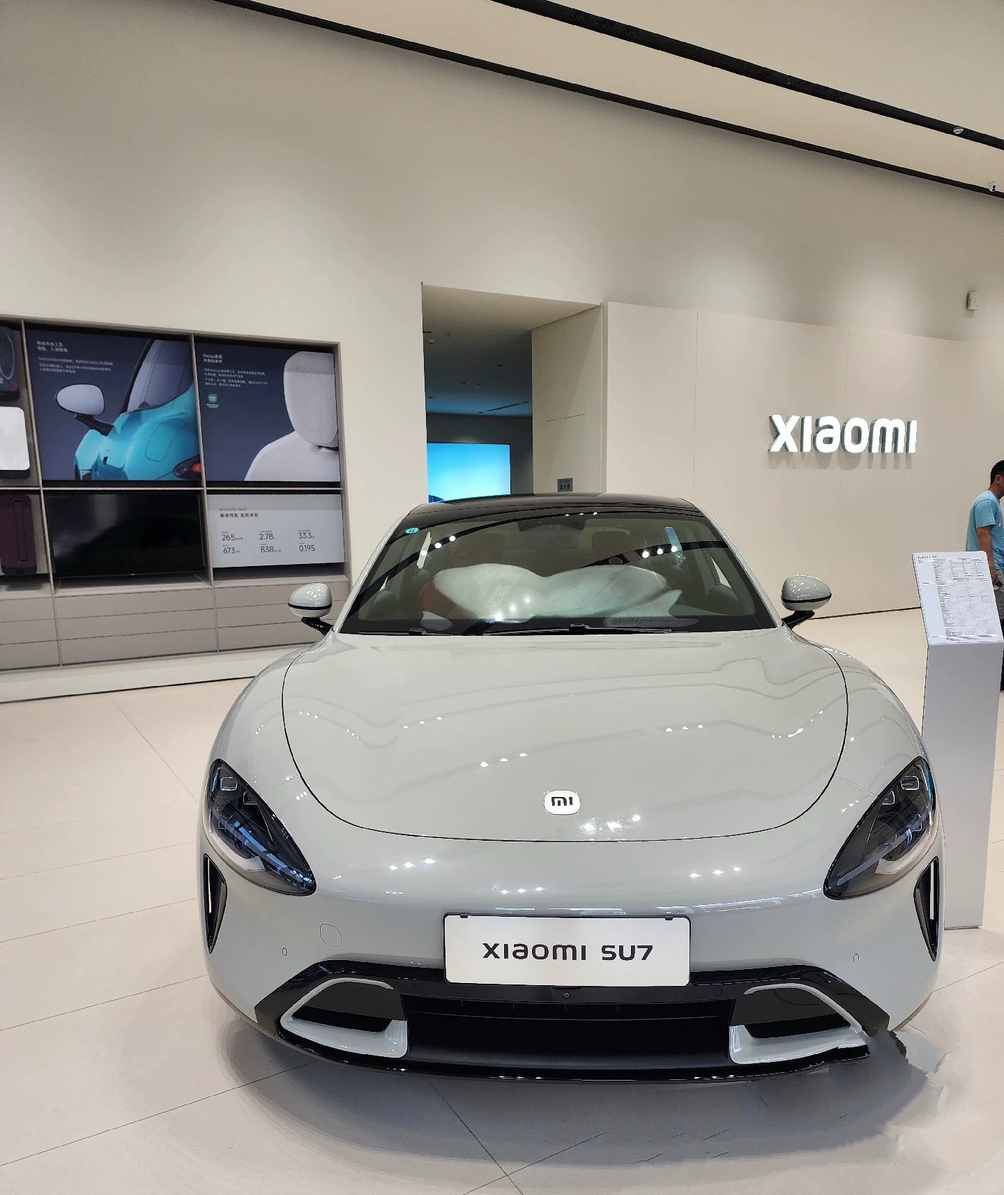su7: (212, 475, 957, 1073)
